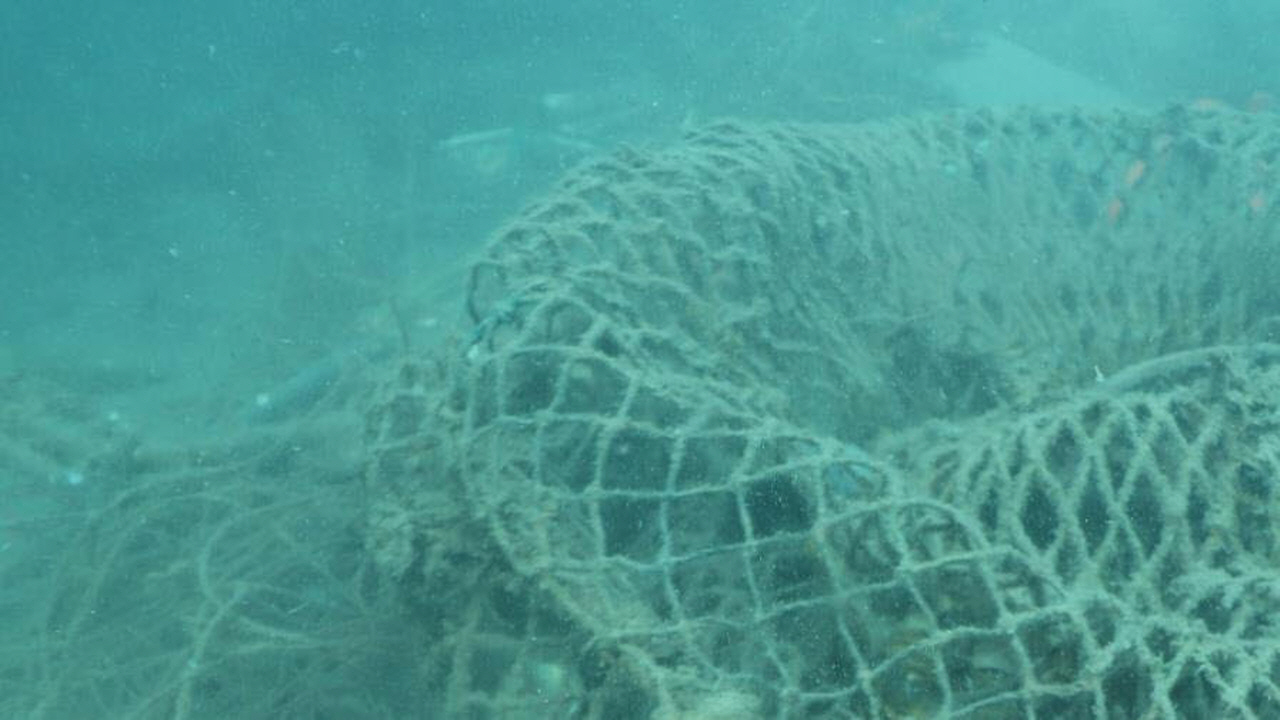fish net: (369, 98, 1280, 719)
